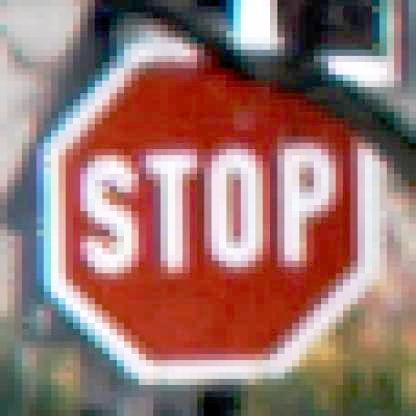Stop Sign: (43, 16, 378, 383)
